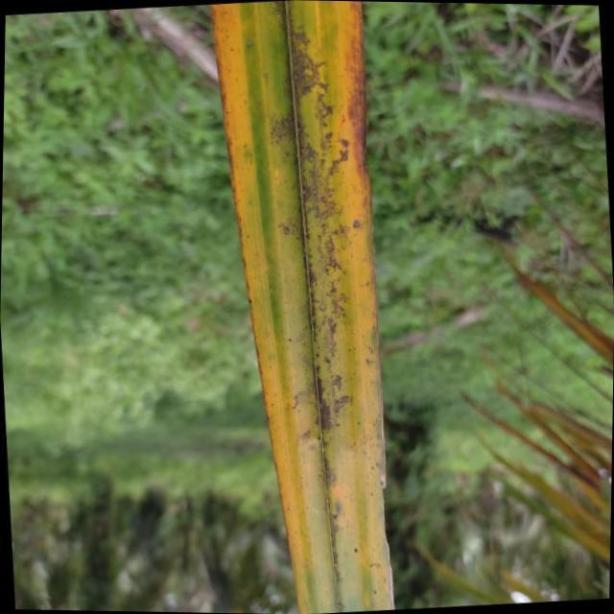Megnesium: (206, 0, 395, 614)
